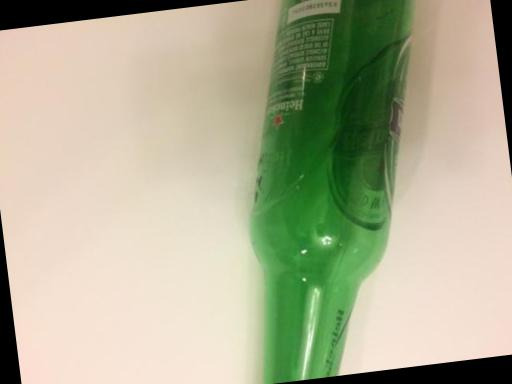glass: (136, 0, 479, 384)
